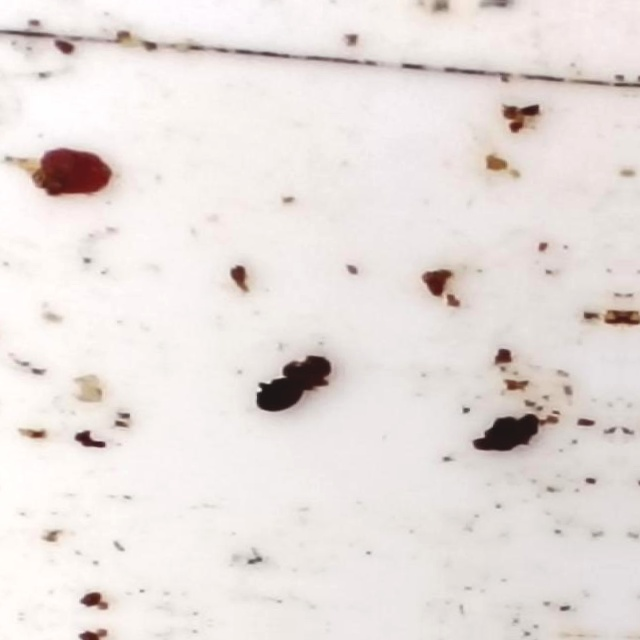varroa: (277, 355, 333, 392), (252, 379, 302, 415)
